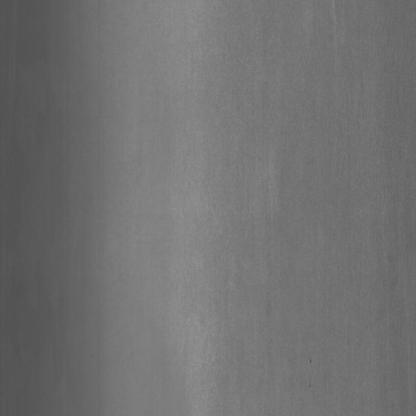inclusion: (308, 344, 315, 398)
